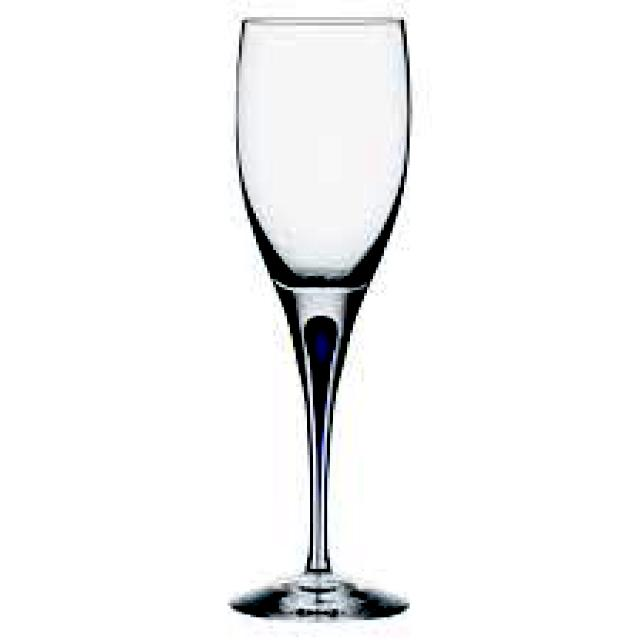Glass: (228, 14, 412, 625)
